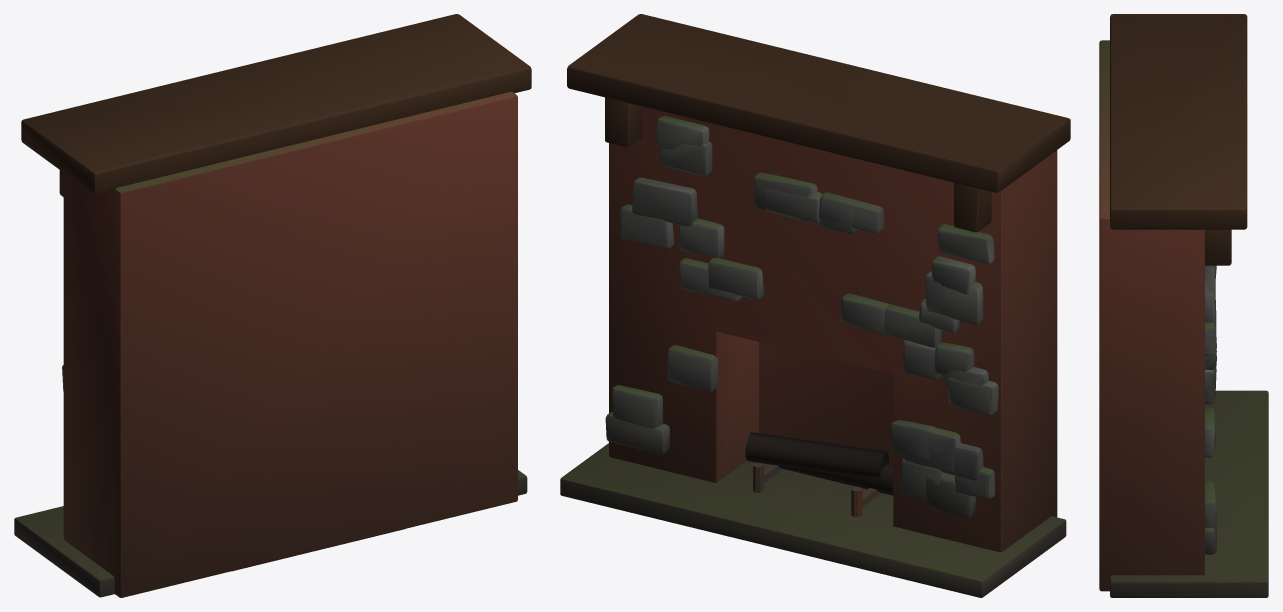
File: Fireplace.glb
The picture shows the model from 3 angles, left to right: view 1: azimuth 30°, elevation 25°; view 2: azimuth 150°, elevation 25°; view 3: azimuth 270°, elevation 25°; orthographic projection. The views are drawn at different scales.
Parts seen in each view (by area): view 1: Fireplace_brick, Fireplace_wood_dark, Fireplace_stone_dark; view 2: Fireplace_brick, Fireplace_wood_dark, Fireplace_stone, Fireplace_stone_dark, Fireplace_charred, Fireplace_iron; view 3: Fireplace_brick, Fireplace_wood_dark, Fireplace_stone_dark, Fireplace_stone.
Boxes of the visible parts, <box> form: Fireplace_brick: <box>63,91,517,597</box>; Fireplace_wood_dark: <box>21,14,531,196</box>; Fireplace_stone_dark: <box>14,470,527,597</box>; Fireplace_brick: <box>609,106,1057,552</box>; Fireplace_wood_dark: <box>567,14,1070,232</box>; Fireplace_stone: <box>605,116,998,518</box>; Fireplace_stone_dark: <box>560,443,1066,597</box>; Fireplace_charred: <box>745,432,893,495</box>; Fireplace_iron: <box>753,462,881,516</box>; Fireplace_brick: <box>1099,40,1204,591</box>; Fireplace_wood_dark: <box>1110,14,1247,265</box>; Fireplace_stone_dark: <box>1110,390,1268,597</box>; Fireplace_stone: <box>1205,265,1216,554</box>.
Bounding box in the file's own units: 8.8 × 8.18 × 3.2.
